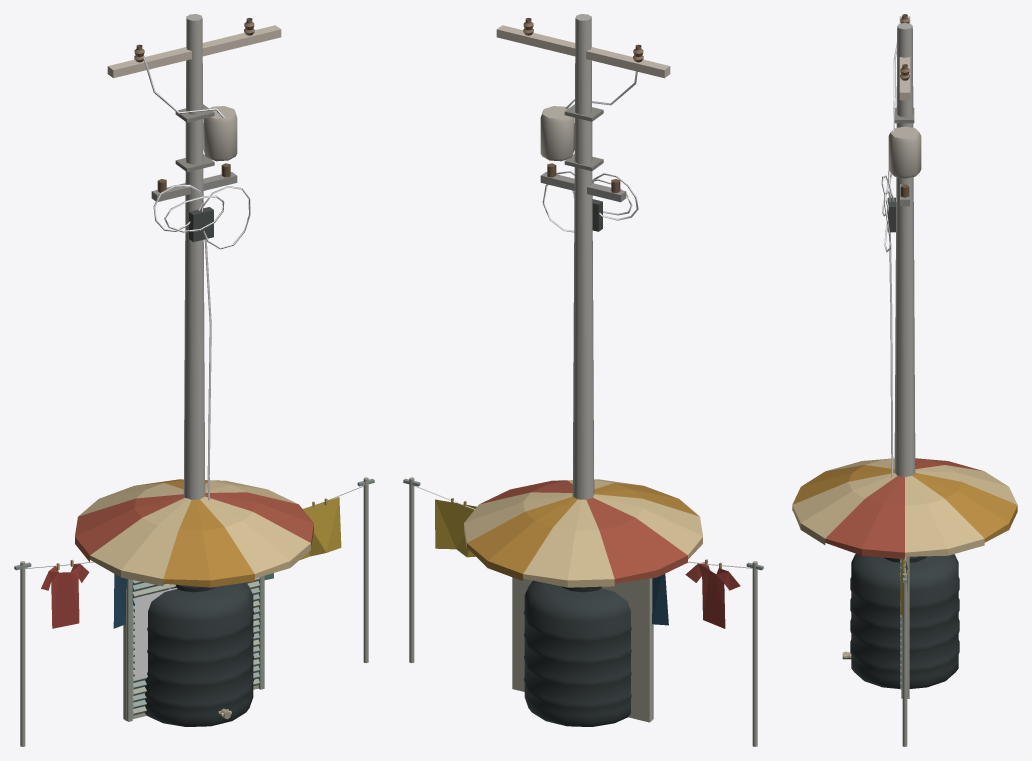
Rendered from clutter.glb.
The picture shows the model from 3 angles, left to right: view 1: azimuth 30°, elevation 25°; view 2: azimuth 150°, elevation 25°; view 3: azimuth 270°, elevation 25°; orthographic projection. The views are drawn at different scales.
Parts seen in each view (by area): view 1: clutter_umbrella-2, clutter_tank_black-0, clutter_pole_concrete-0, clutter_pole_concrete-1, clutter_washing_line-2, clutter_shutter-0, clutter_washing_line-0, clutter_pole_concrete-3, clutter_pole_concrete-2, clutter_shutter-2; view 2: clutter_umbrella-2, clutter_tank_black-0, clutter_pole_concrete-0, clutter_pole_concrete-1, clutter_shutter-0, clutter_washing_line-2, clutter_washing_line-0, clutter_pole_concrete-2, clutter_pole_concrete-3; view 3: clutter_umbrella-2, clutter_tank_black-0, clutter_pole_concrete-0, clutter_pole_concrete-1, clutter_pole_concrete-3, clutter_washing_line-0, clutter_shutter-0, clutter_pole_concrete-2.
Boxes of the visible parts, x1,y1,x2,y2 form: clutter_umbrella-2: (75,479,313,587); clutter_tank_black-0: (145,582,253,726); clutter_pole_concrete-0: (183,14,205,499); clutter_pole_concrete-1: (107,25,281,201); clutter_washing_line-2: (41,497,341,628); clutter_shutter-0: (123,575,264,721); clutter_washing_line-0: (14,477,374,746); clutter_pole_concrete-3: (142,55,250,499); clutter_pole_concrete-2: (134,18,254,241); clutter_shutter-2: (135,587,177,679); clutter_umbrella-2: (464,479,702,587); clutter_tank_black-0: (524,580,631,726); clutter_pole_concrete-0: (572,14,594,499); clutter_pole_concrete-1: (496,25,670,202); clutter_shutter-0: (512,577,653,722); clutter_washing_line-2: (435,499,740,628); clutter_washing_line-0: (403,477,763,746); clutter_pole_concrete-2: (523,18,643,231); clutter_pole_concrete-3: (542,71,638,232); clutter_umbrella-2: (792,458,1017,559); clutter_tank_black-0: (842,554,959,688); clutter_pole_concrete-0: (894,23,915,476); clutter_pole_concrete-1: (888,16,921,206); clutter_pole_concrete-3: (881,43,896,477); clutter_washing_line-0: (902,573,907,746); clutter_shutter-0: (900,556,909,698); clutter_pole_concrete-2: (887,14,909,232).
Size of what is drawn, in the model's own units: 4.7 by 8.6 by 2.74.
